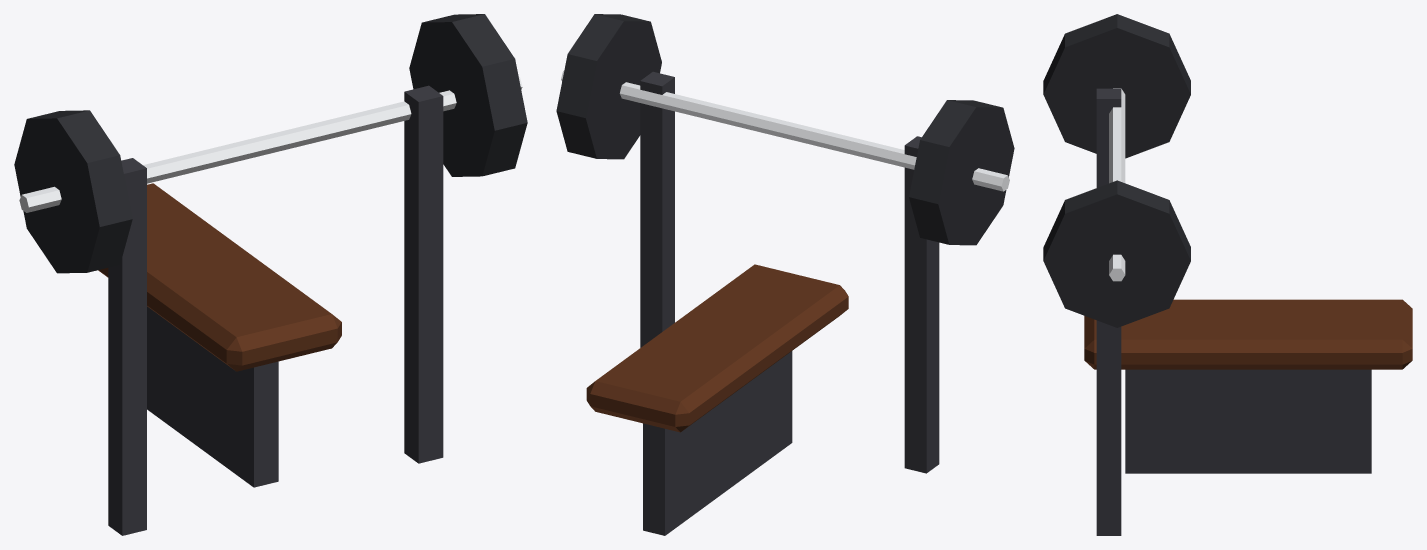
File: BenchPress.fbx
3 renders of one model, left to right at view 1: azimuth 30°, elevation 25°; view 2: azimuth 150°, elevation 25°; view 3: azimuth 270°, elevation 25°, orthographic. The views are drawn at different scales.
Parts seen in each view (by area): view 1: BenchPress; view 2: BenchPress; view 3: BenchPress.
Boxes of the visible parts, x1=… form: BenchPress: x1=14, y1=14, x2=527, y2=535; BenchPress: x1=556, y1=14, x2=1014, y2=535; BenchPress: x1=1043, y1=14, x2=1412, y2=535.
Size of the model in its own units: 6 by 4.9 by 4.5.
1 material, 1 textured.
